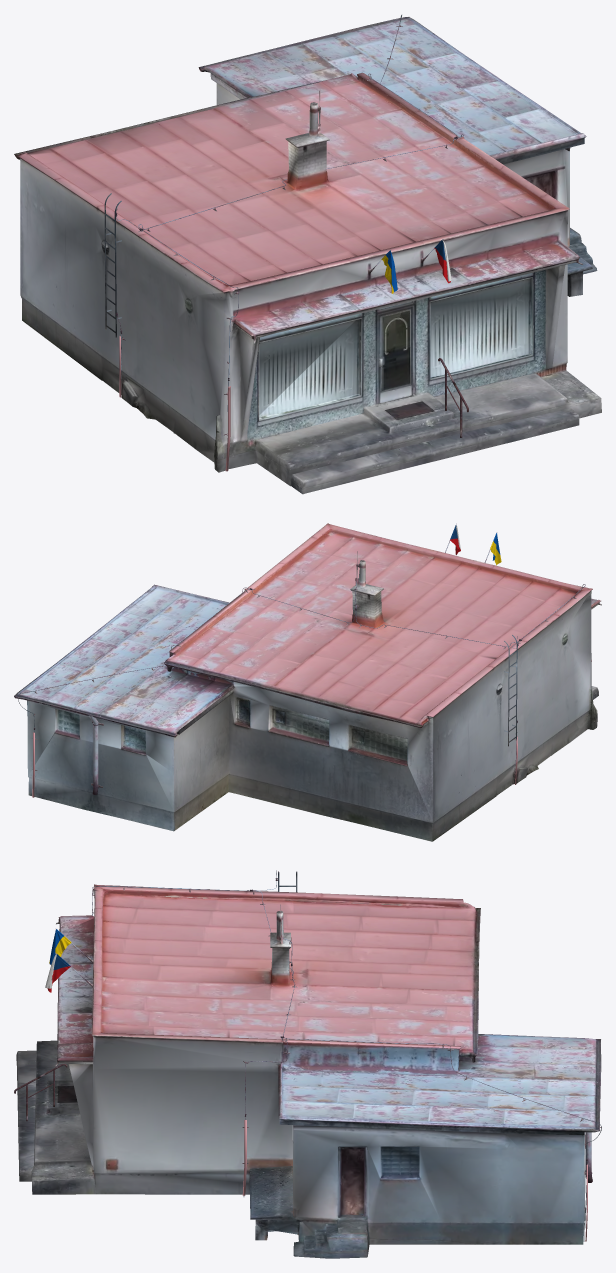
Rendered from house.glb.
3 renders of one model, top to bottom at view 1: azimuth 30°, elevation 25°; view 2: azimuth 150°, elevation 25°; view 3: azimuth 270°, elevation 25°, orthographic. The views are drawn at different scales.
Parts seen in each view (by area): view 1: Groceteria; view 2: Groceteria; view 3: Groceteria.
Boxes of the visible parts, x1=… form: Groceteria: x1=14, y1=15, x2=601, y2=494; Groceteria: x1=14, y1=523, x2=601, y2=841; Groceteria: x1=14, y1=870, x2=601, y2=1258.
Size of the model in its own units: 13.13 by 6.51 by 15.07.
4 materials, 4 textured.
